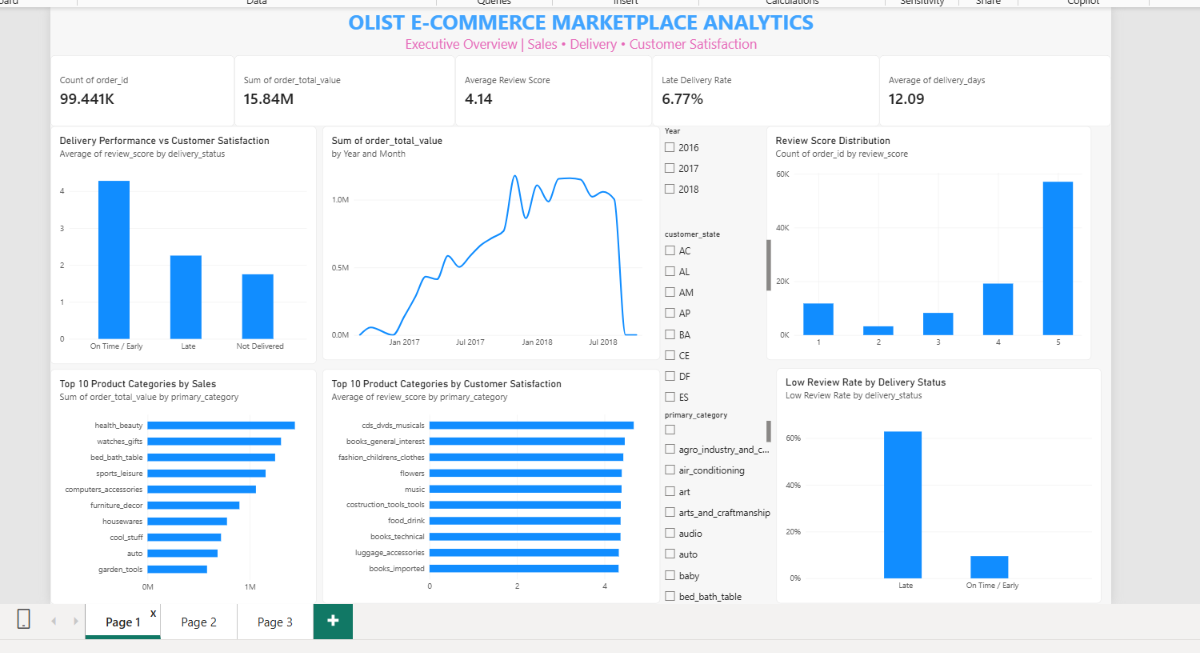

The dashboard page shown, as its layout file describes it:
{"tool":"powerbi","page":{"name":"Page 1","canvas":[1920,1080],"ordinal":0},"visuals":[{"type":"cardVisual","fields":{"Data":["Count(olist_powerbi_master.order_id)"]},"box":[0,86.4,333.4,129.7],"z":0},{"type":"cardVisual","fields":{"Data":["Sum(olist_powerbi_master.order_total_value)"]},"box":[333.4,86.4,399.3,129.7],"z":1},{"type":"cardVisual","fields":{"Data":["olist_powerbi_master.Average Review Score"]},"box":[732.8,86.4,356.1,129.7],"z":2},{"type":"cardVisual","fields":{"Data":["olist_powerbi_master.Late Delivery Rate"]},"box":[1088.9,86.4,411.7,129.7],"z":3},{"type":"cardVisual","fields":{"Data":["Avg(olist_powerbi_master.delivery_days)"]},"box":[1500.5,86.4,419.9,129.7],"z":4},{"type":"clusteredColumnChart","title":"Delivery Performance vs Customer Satisfaction","fields":{"Category":["olist_powerbi_master.delivery_status"],"Y":["Avg(olist_powerbi_master.review_score)"]},"box":[0,216.2,481.3,430.1],"z":5},{"type":"lineChart","fields":{"Category":["olist_powerbi_master.order_purchase_timestamp.Variation.Date Hierarchy.Year","olist_powerbi_master.order_purchase_timestamp.Variation.Date Hierarchy.Month"],"Y":["Sum(olist_powerbi_master.order_total_value)"]},"box":[492.9,216.2,611.5,423.2],"z":6},{"type":"clusteredColumnChart","title":"Review Score Distribution","fields":{"Category":["olist_powerbi_master.review_score"],"Y":["CountNonNull(olist_powerbi_master.order_id)"]},"box":[1295,216.2,588.2,423.2],"z":7},{"type":"clusteredBarChart","title":"Top 10 Product Categories by Sales","fields":{"Category":["olist_powerbi_master.primary_category"],"Y":["Sum(olist_powerbi_master.order_total_value)"]},"box":[0,655.7,481.3,425.5],"z":8},{"type":"clusteredBarChart","title":"Top 10 Product Categories by Customer Satisfaction","fields":{"Category":["olist_powerbi_master.primary_category"],"Y":["Avg(olist_powerbi_master.review_score)"]},"box":[493,656,611,424],"z":9},{"type":"clusteredColumnChart","title":"Low Review Rate by Delivery Status","fields":{"Category":["olist_powerbi_master.delivery_status"],"Y":["olist_powerbi_master.Low Review Rate"]},"box":[1313.6,653.3,588.2,425.5],"z":10},{"type":"textbox","box":[0,0,1920.5,86],"z":11},{"type":"slicer","fields":{"Values":["olist_powerbi_master.order_purchase_timestamp.Variation.Date Hierarchy.Year"]},"box":[1104.4,216.2,190.7,186],"z":12},{"type":"slicer","fields":{"Values":["olist_powerbi_master.customer_state"]},"box":[1103.6,401.8,200,327.3],"z":13},{"type":"slicer","fields":{"Values":["olist_powerbi_master.primary_category"]},"box":[1103.6,729.1,200,349.1],"z":14}]}

Visuals, with their boxes on the page's 1920x1080 design canvas (x1, y1, x2, y2). These are canvas units, not pixel positions in the 1200x653 screenshot, which may show the page scaled, cropped or inside an application window:
cardVisual - Count(olist_powerbi_master.order_id): left=0, top=86, right=333, bottom=216
cardVisual - Sum(olist_powerbi_master.order_total_value): left=333, top=86, right=733, bottom=216
cardVisual - olist_powerbi_master.Average Review Score: left=733, top=86, right=1089, bottom=216
cardVisual - olist_powerbi_master.Late Delivery Rate: left=1089, top=86, right=1501, bottom=216
cardVisual - Avg(olist_powerbi_master.delivery_days): left=1500, top=86, right=1920, bottom=216
"Delivery Performance vs Customer Satisfaction" clusteredColumnChart: left=0, top=216, right=481, bottom=646
lineChart - olist_powerbi_master.order_purchase_timestamp.Variation.Date Hierarchy.Year x olist_powerbi_master.order_purchase_timestamp.Variation.Date Hierarchy.Month: left=493, top=216, right=1104, bottom=639
"Review Score Distribution" clusteredColumnChart: left=1295, top=216, right=1883, bottom=639
"Top 10 Product Categories by Sales" clusteredBarChart: left=0, top=656, right=481, bottom=1081
"Top 10 Product Categories by Customer Satisfaction" clusteredBarChart: left=493, top=656, right=1104, bottom=1080
"Low Review Rate by Delivery Status" clusteredColumnChart: left=1314, top=653, right=1902, bottom=1079
textbox: left=0, top=0, right=1920, bottom=86
slicer - olist_powerbi_master.order_purchase_timestamp.Variation.Date Hierarchy.Year: left=1104, top=216, right=1295, bottom=402
slicer - olist_powerbi_master.customer_state: left=1104, top=402, right=1304, bottom=729
slicer - olist_powerbi_master.primary_category: left=1104, top=729, right=1304, bottom=1078
